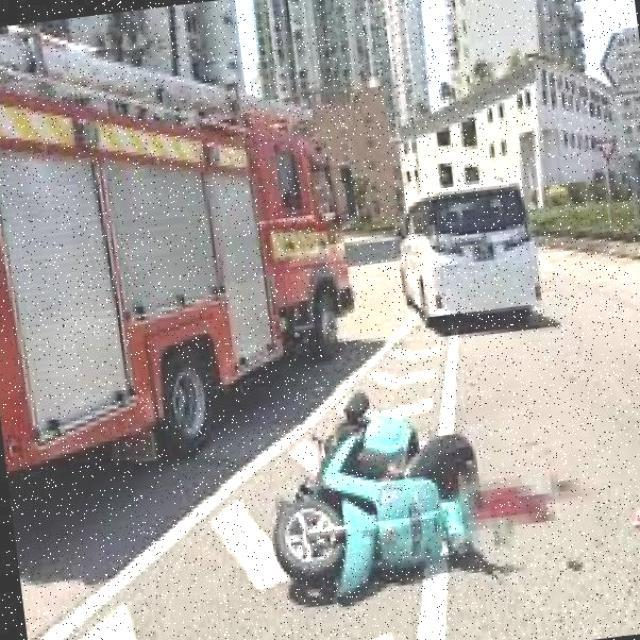accident: (255, 357, 548, 638)
